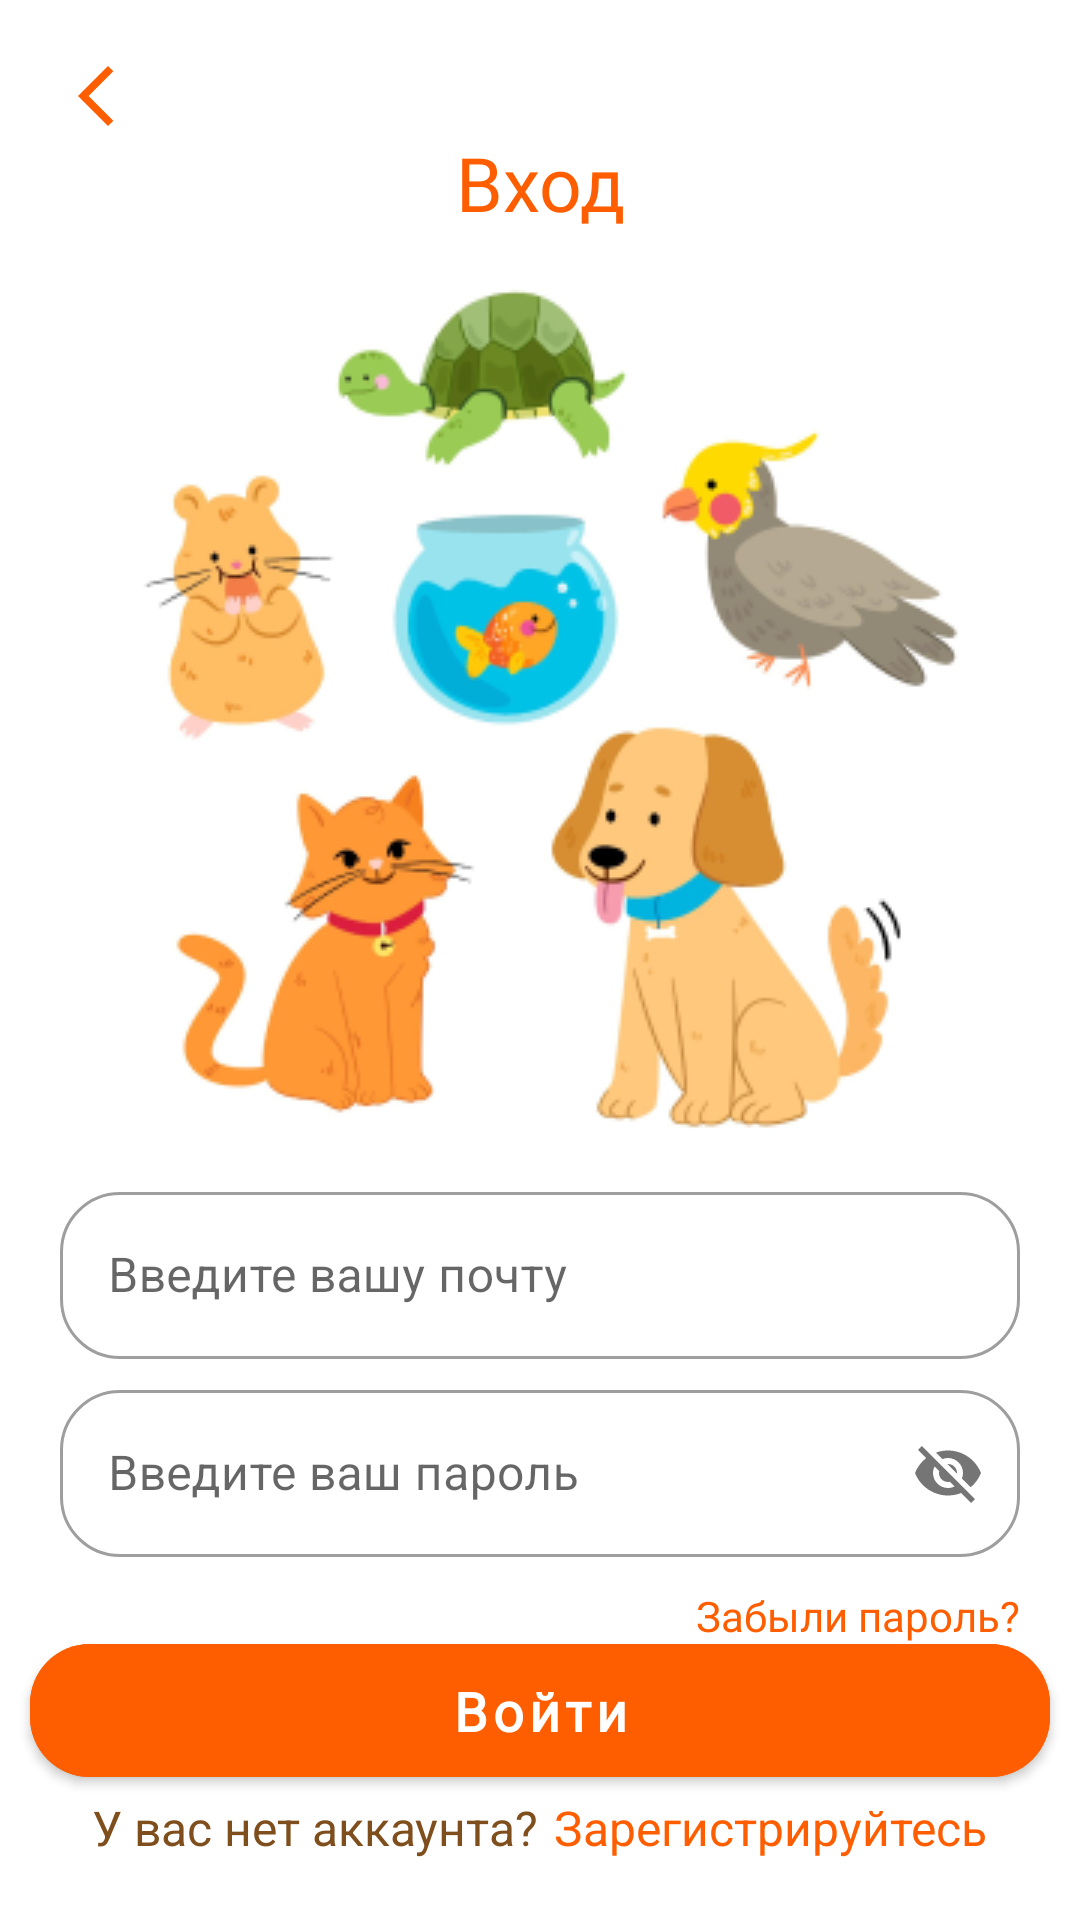

Icons on this 1080 x 1920 Android screen, each with its box as (x1, y1, x2, y2):
back: (78, 66, 113, 126)
